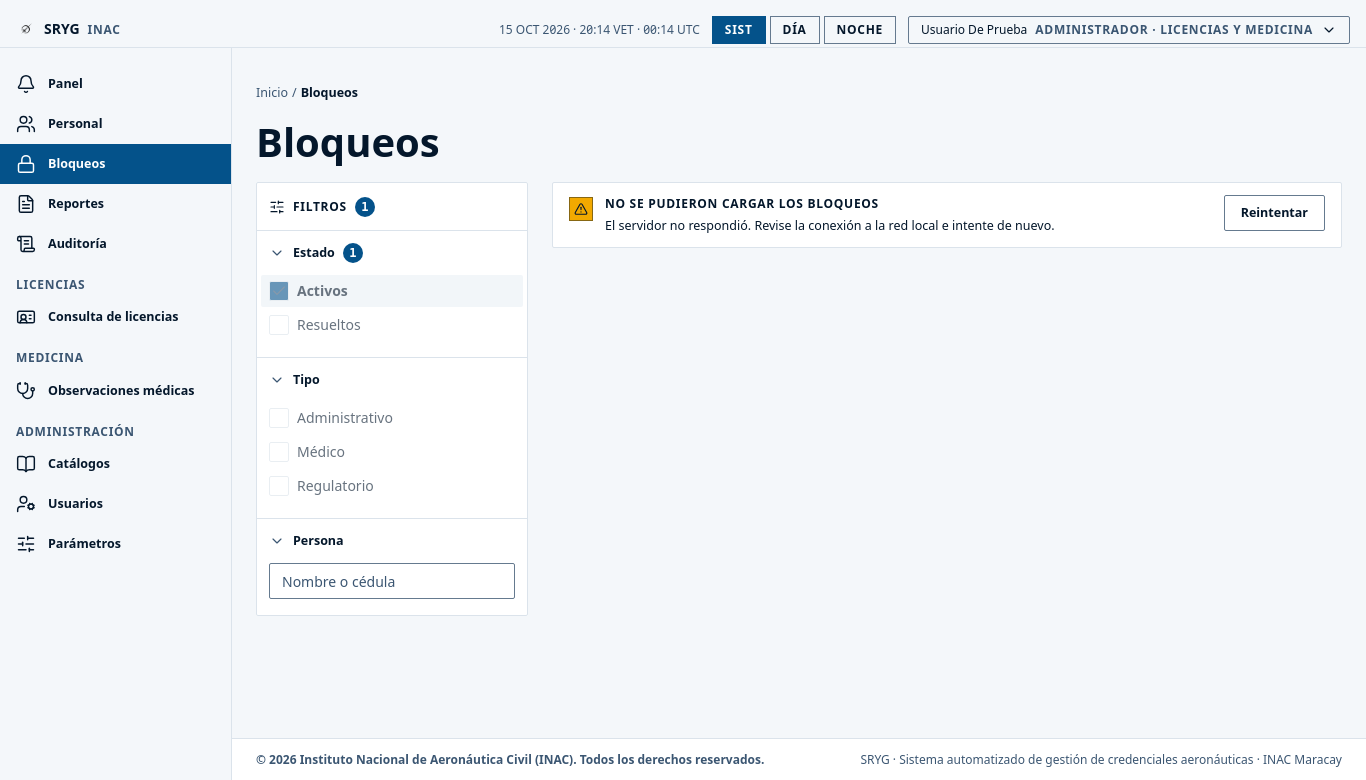
/bloqueos › shows the error state with a retry
Expected: the text "No se pudieron cargar los bloqueos" is shown, [605, 195, 879, 212]
Click the button "Reintentar" at point(1274, 213), box [1224, 195, 1325, 231]
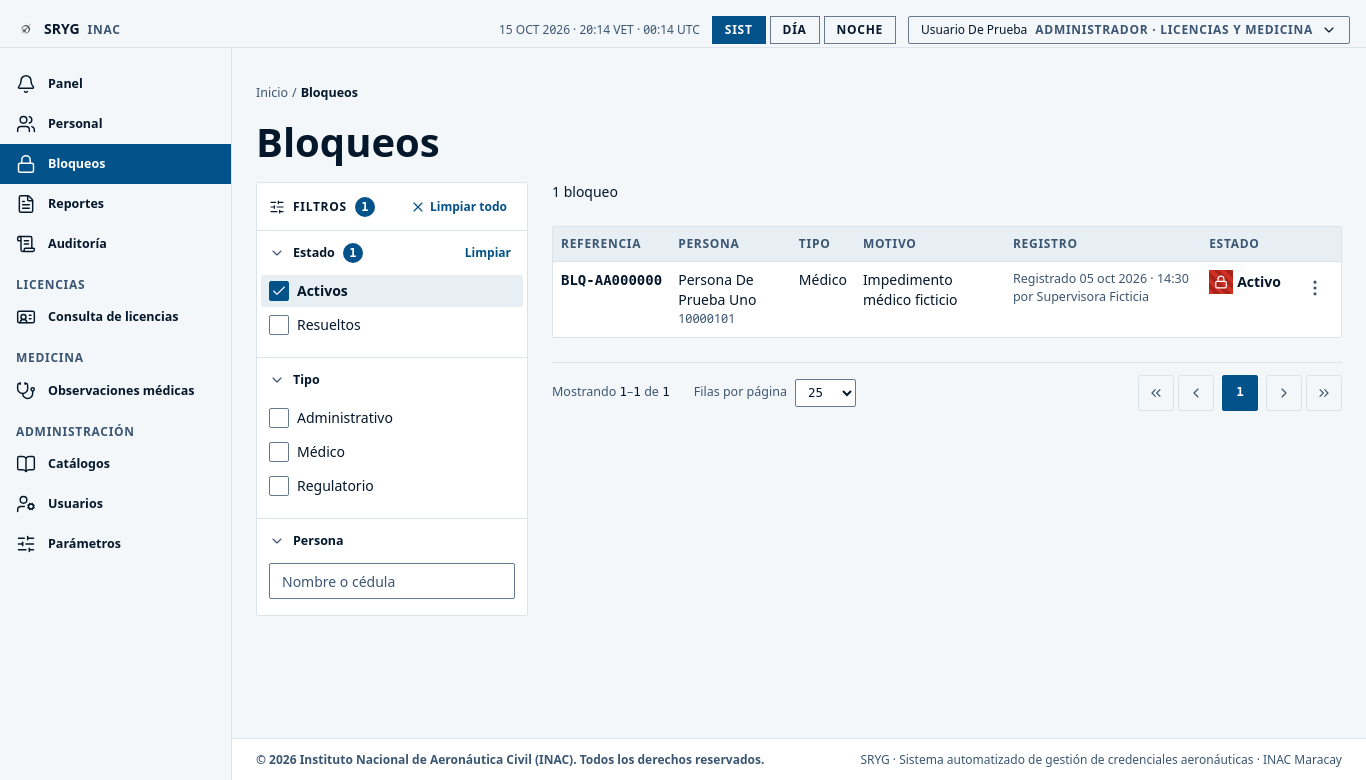
Expected: the text "Impedimento médico ficticio" is shown, [863, 270, 958, 309]
